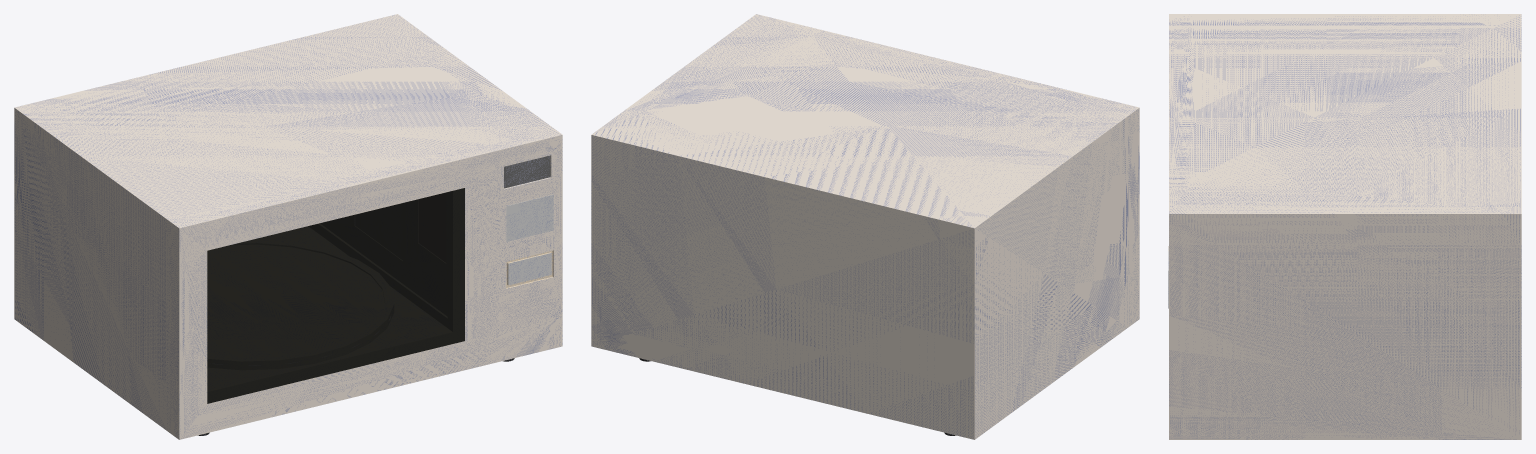
Rendered from microwave_oven.dae.
The picture shows the model from 3 angles, left to right: view 1: azimuth 30°, elevation 25°; view 2: azimuth 150°, elevation 25°; view 3: azimuth 270°, elevation 25°; orthographic projection. The views are drawn at different scales.
Visible parts, largest first — view 1: Microwave_oven (×5); view 2: Microwave_oven; view 3: Microwave_oven.
Boxes of the visible parts, x1=… form: Microwave_oven (×5): x1=14, y1=14, x2=562, y2=439; Microwave_oven: x1=591, y1=14, x2=1139, y2=439; Microwave_oven: x1=1169, y1=14, x2=1521, y2=439.
Size of the model in its own units: 21.65 by 16.16 by 12.2.
